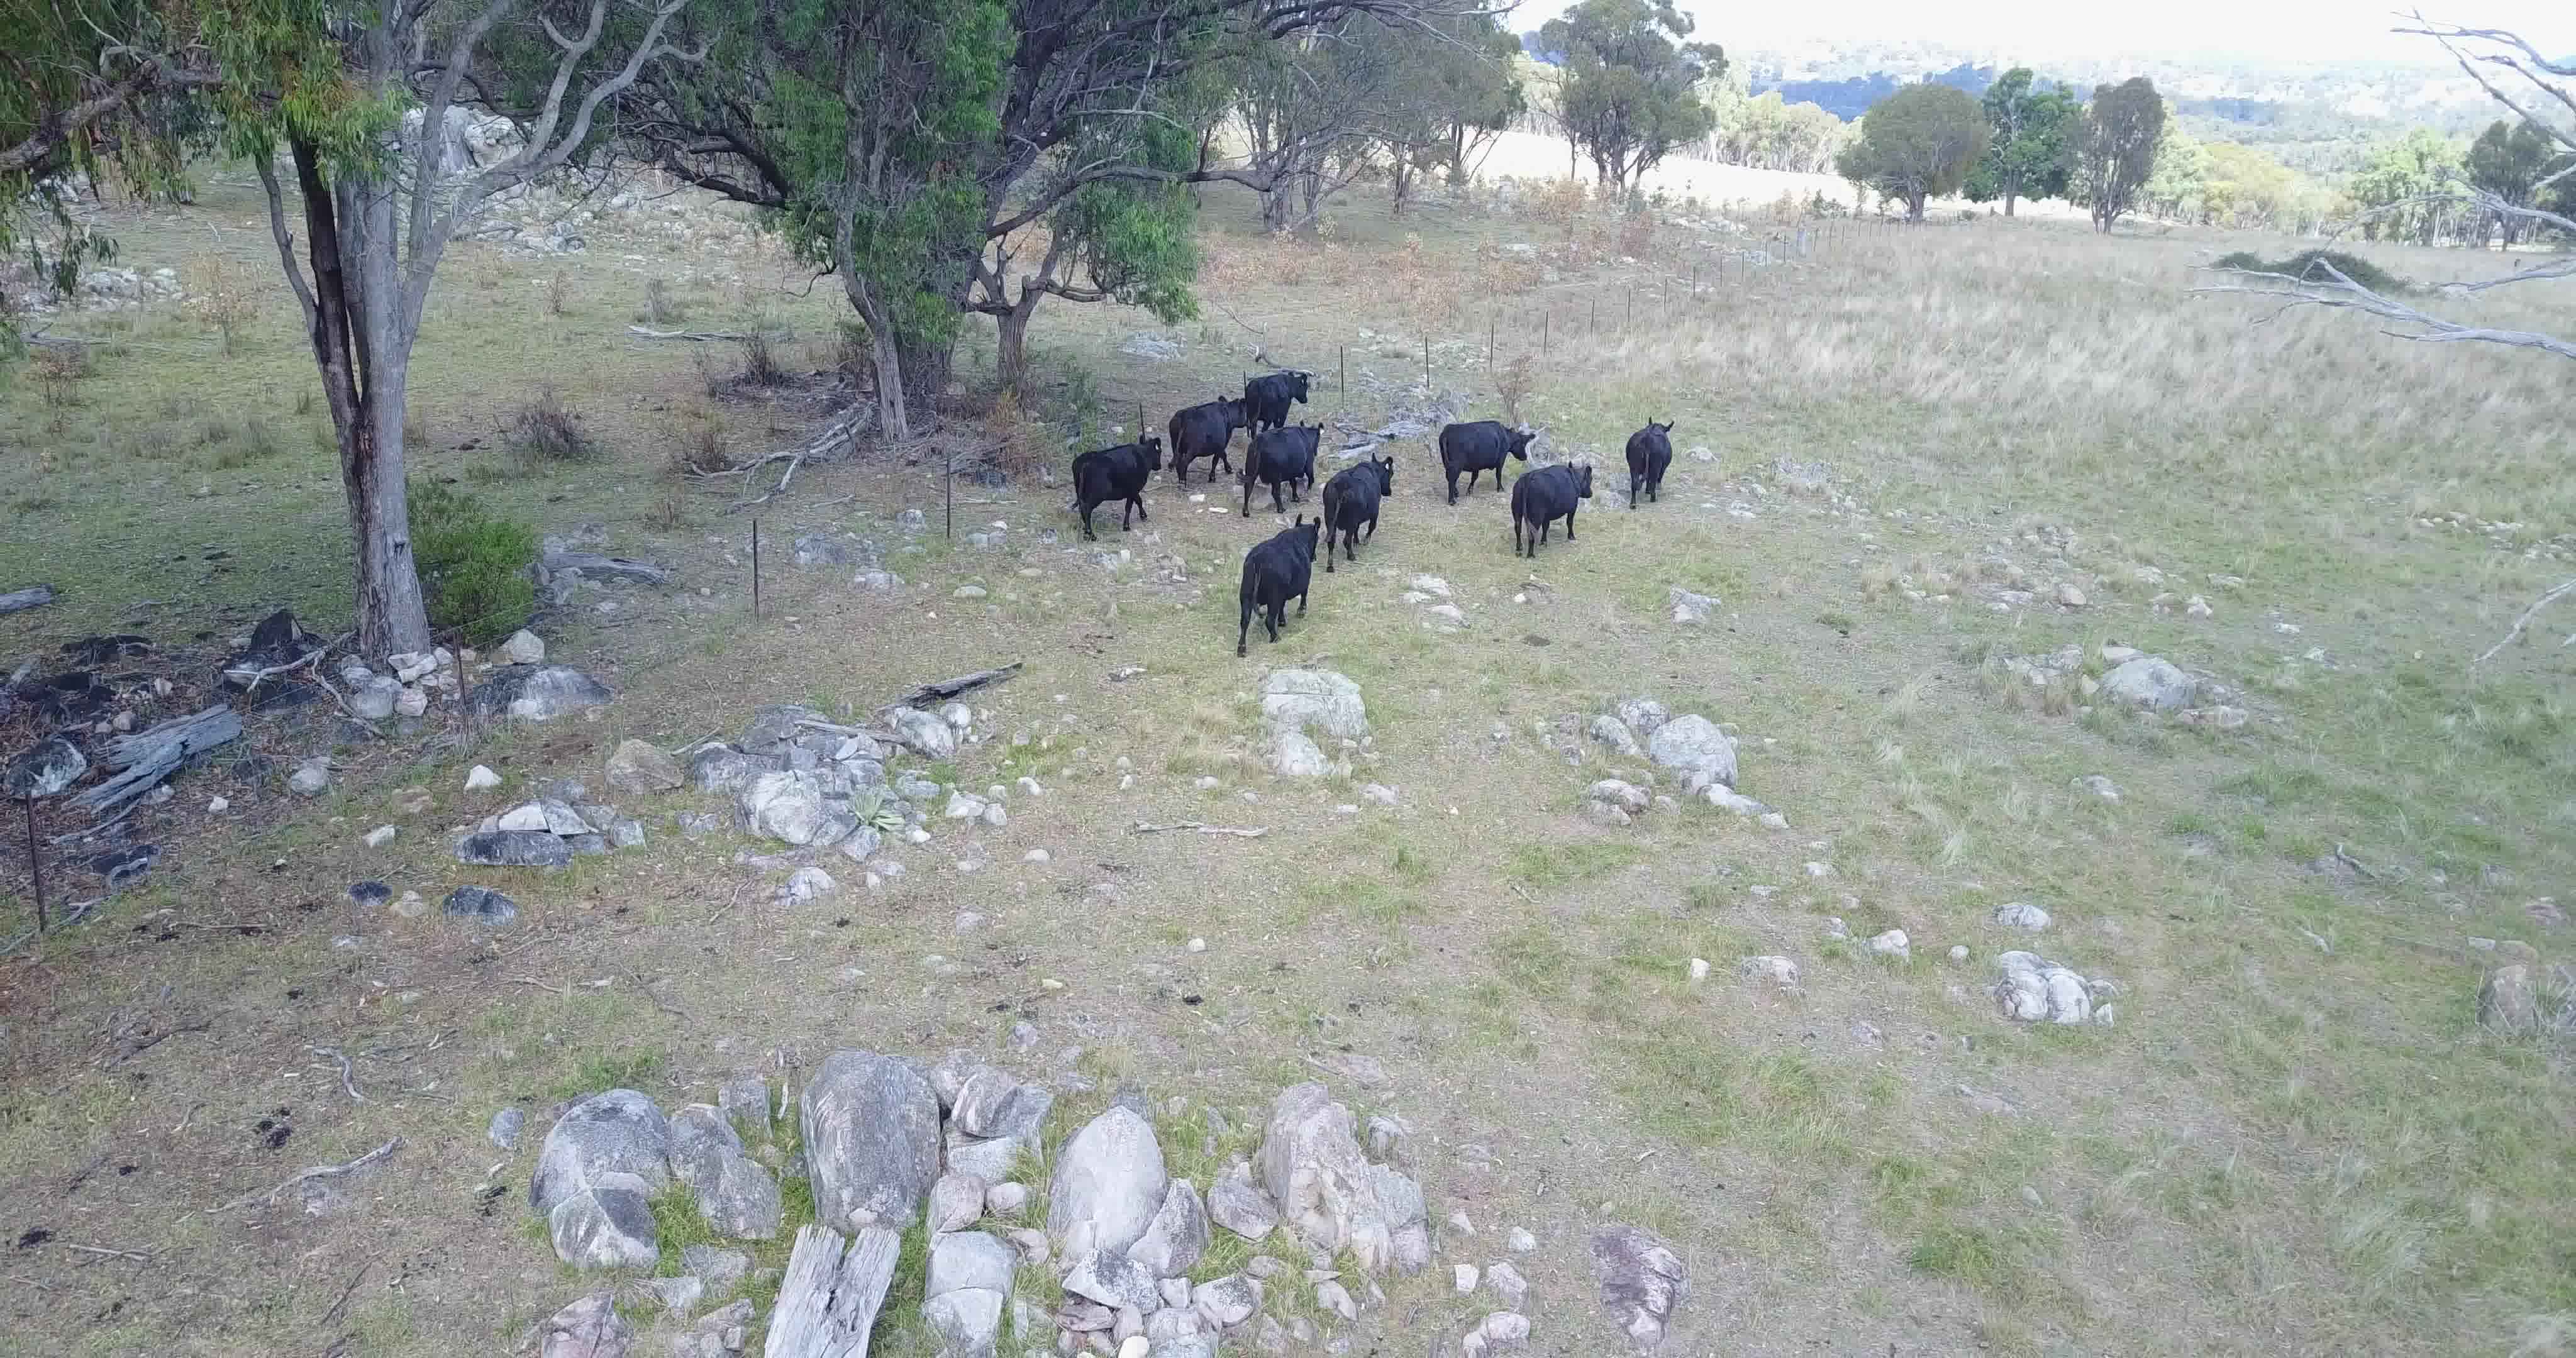cattle: (1235, 513, 1322, 656), (1068, 434, 1164, 545), (1322, 453, 1399, 571), (1438, 421, 1538, 506), (1511, 458, 1596, 559), (1239, 423, 1319, 518), (1167, 395, 1245, 489), (1625, 412, 1676, 513), (1244, 373, 1315, 438)
